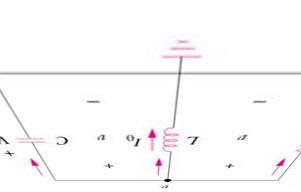inductor: (159, 118, 185, 158)
